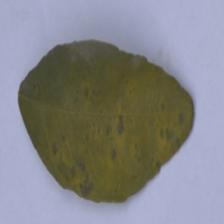greening: (15, 49, 101, 132)
